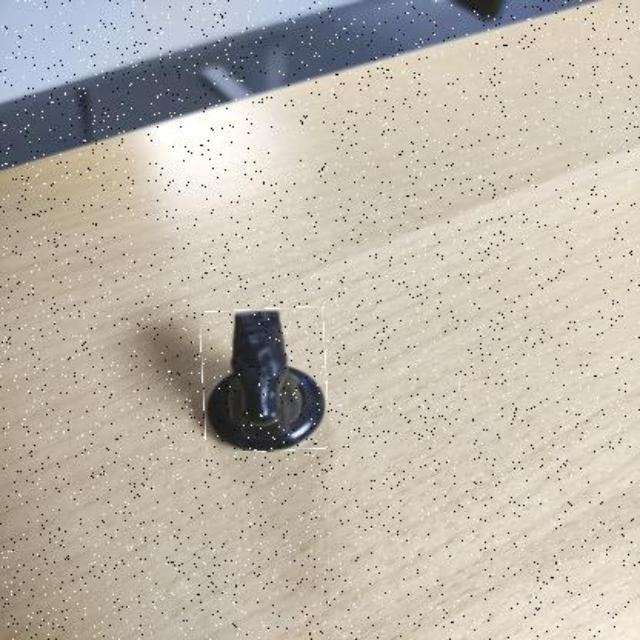black-knight: (202, 308, 328, 452)
